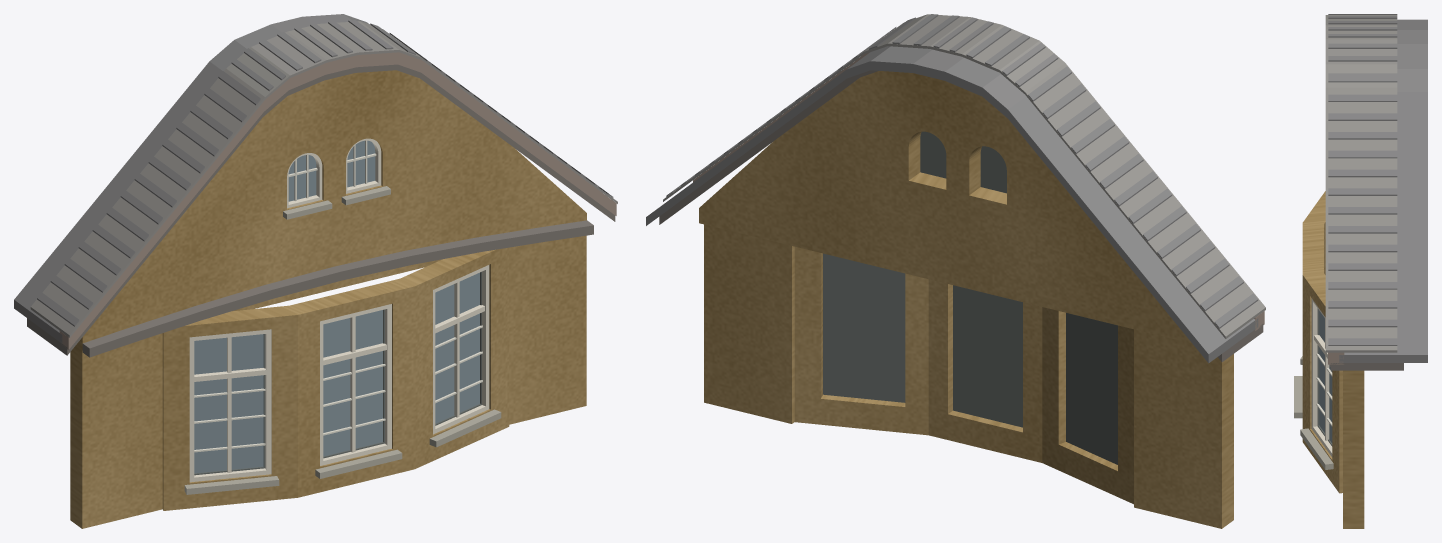
Rendered from tung-hing-gable-near.glb.
The picture shows the model from 3 angles, left to right: view 1: azimuth 30°, elevation 25°; view 2: azimuth 150°, elevation 25°; view 3: azimuth 270°, elevation 25°; orthographic projection. The views are drawn at different scales.
Parts seen in each view (by area): view 1: 同兴纱厂51号住宅折坡山墙与双拱窗; view 2: 同兴纱厂51号住宅折坡山墙与双拱窗; view 3: 同兴纱厂51号住宅折坡山墙与双拱窗.
Boxes of the visible parts, x1,y1,x2,y2 form: 同兴纱厂51号住宅折坡山墙与双拱窗: [14, 14, 617, 528]; 同兴纱厂51号住宅折坡山墙与双拱窗: [646, 14, 1265, 528]; 同兴纱厂51号住宅折坡山墙与双拱窗: [1294, 14, 1427, 528].
Size of the model in its own units: 7.04 by 5.15 by 1.62.
10 materials, 1 textured.
